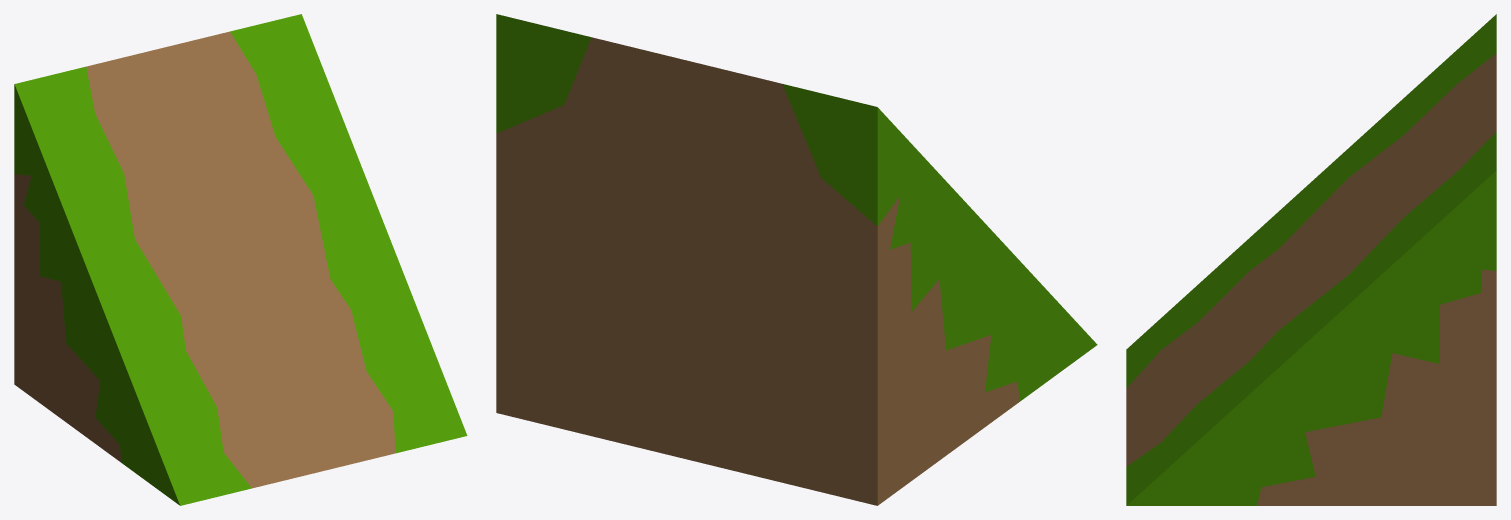
Rendered from RPG_Tiles_Square_Covered_Path_Ramp_01.FBX.
3 views of the same model, side by side, from view 1: azimuth 30°, elevation 25°; view 2: azimuth 150°, elevation 25°; view 3: azimuth 270°, elevation 25° (orthographic). The views are drawn at different scales.
Parts seen in each view (by area): view 1: RPG_Tiles_Square_Covered_Path_Ramp_01; view 2: RPG_Tiles_Square_Covered_Path_Ramp_01; view 3: RPG_Tiles_Square_Covered_Path_Ramp_01.
Boxes of the visible parts, bbox=[...] form: RPG_Tiles_Square_Covered_Path_Ramp_01: bbox=[14, 14, 467, 505]; RPG_Tiles_Square_Covered_Path_Ramp_01: bbox=[496, 14, 1097, 505]; RPG_Tiles_Square_Covered_Path_Ramp_01: bbox=[1126, 14, 1496, 505].
Size of the model in its own units: 3000 by 3000 by 3000.
